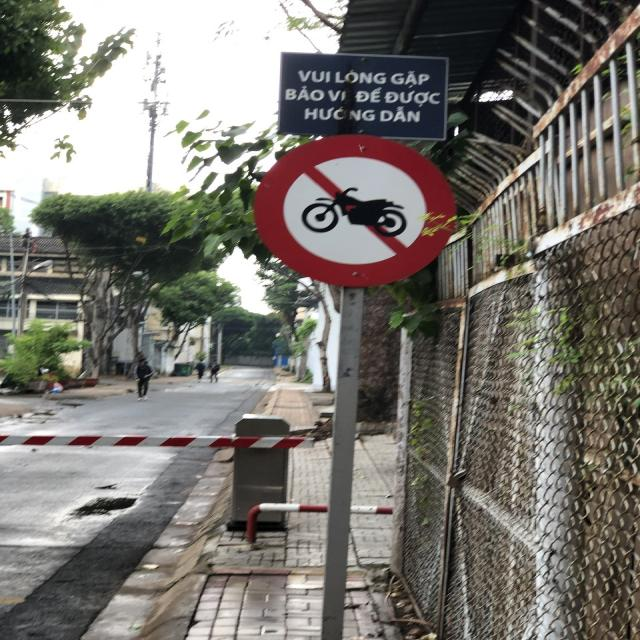Bien bao cam xe may: (242, 128, 477, 294)
